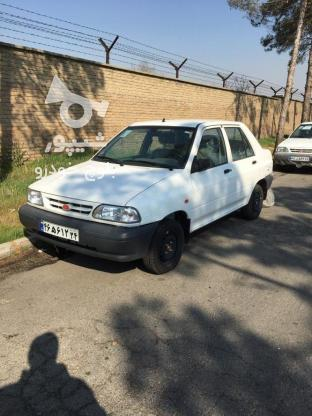car: (39, 219, 80, 241)
